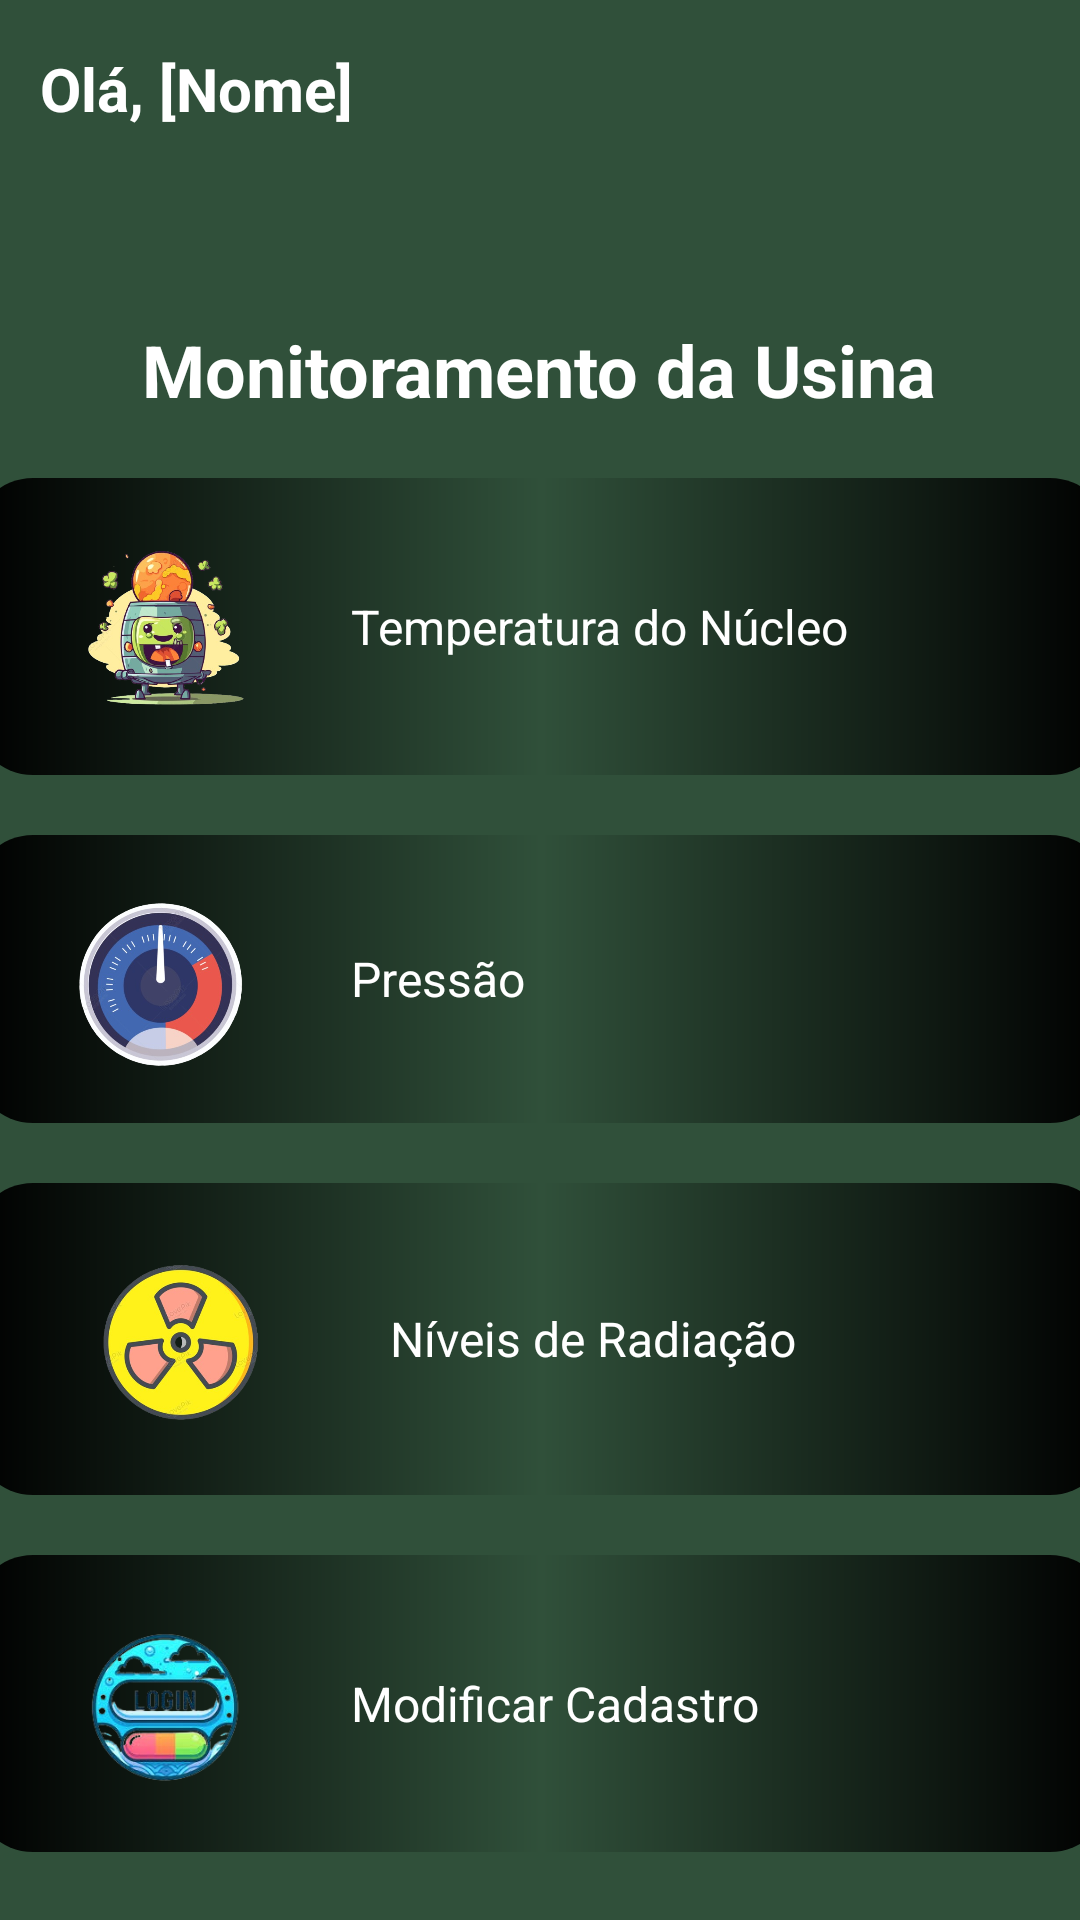

Where to tap for icons on this 1080 x 1920 app screen, as (x,y):
nucleo: (162,626)
pressao: (162,979)
